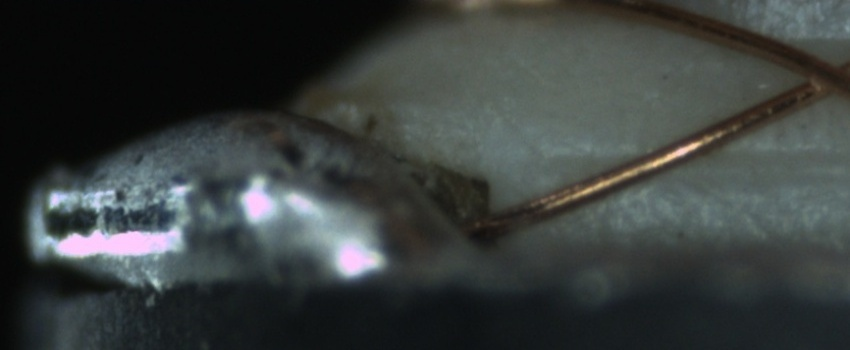CL: (781, 44, 849, 107)
DL: (543, 123, 846, 192)
